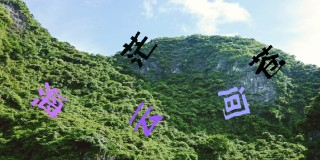云: (127, 102, 164, 137)
海: (31, 81, 66, 118)
苍: (249, 45, 286, 80)
茫: (120, 30, 159, 68)
间: (215, 86, 251, 120)
